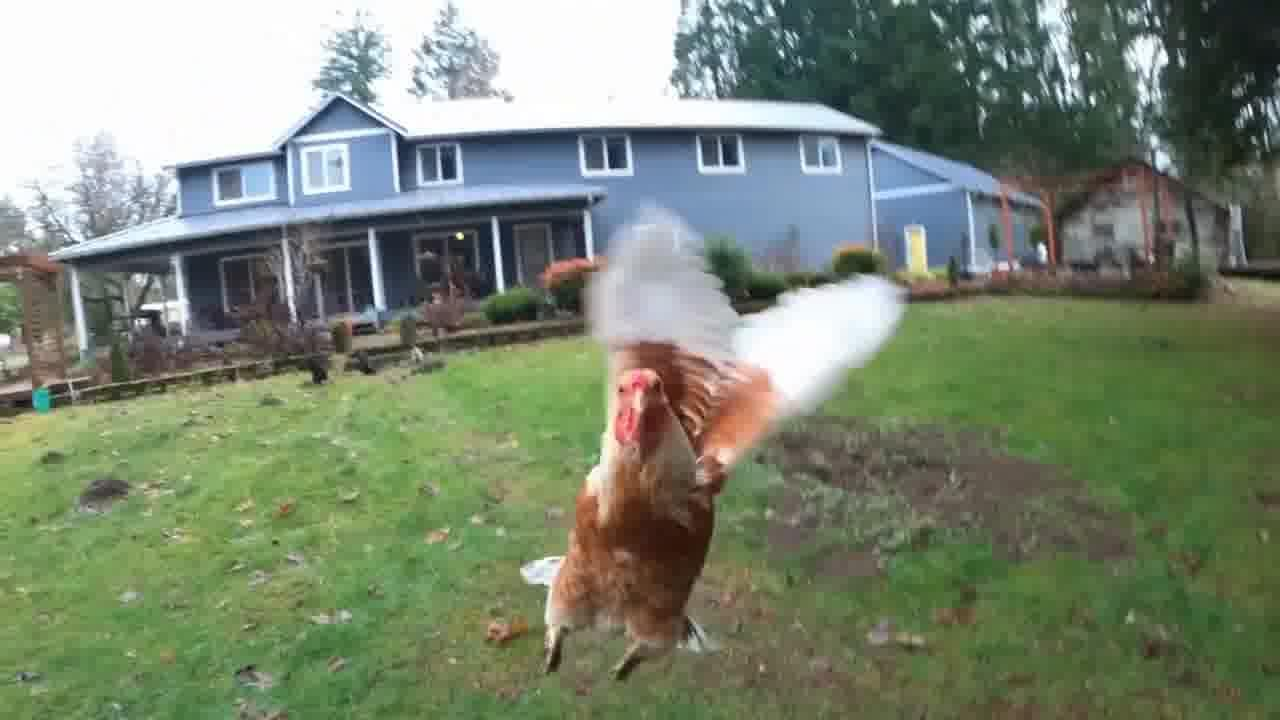Normal: (530, 216, 824, 668)
